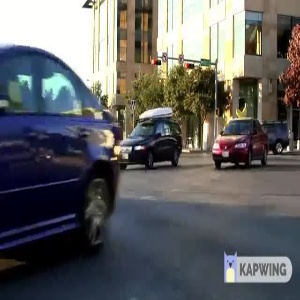car: (1, 47, 124, 255), (107, 109, 188, 169), (203, 115, 271, 170)
